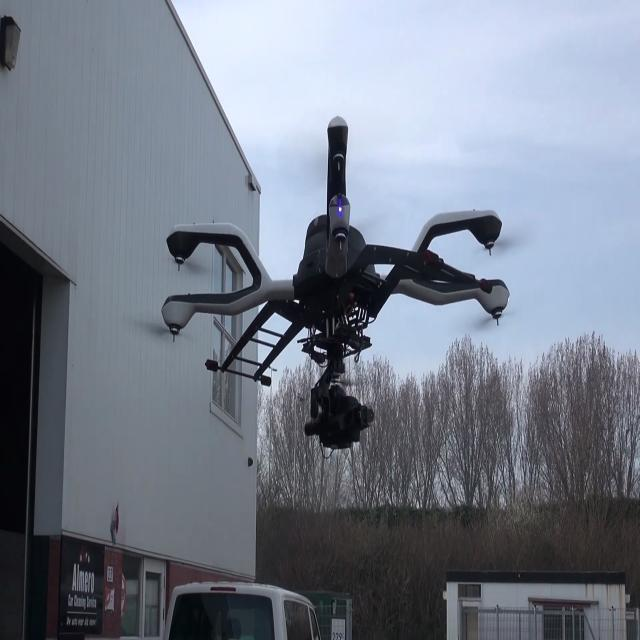drone: (139, 120, 526, 458)
